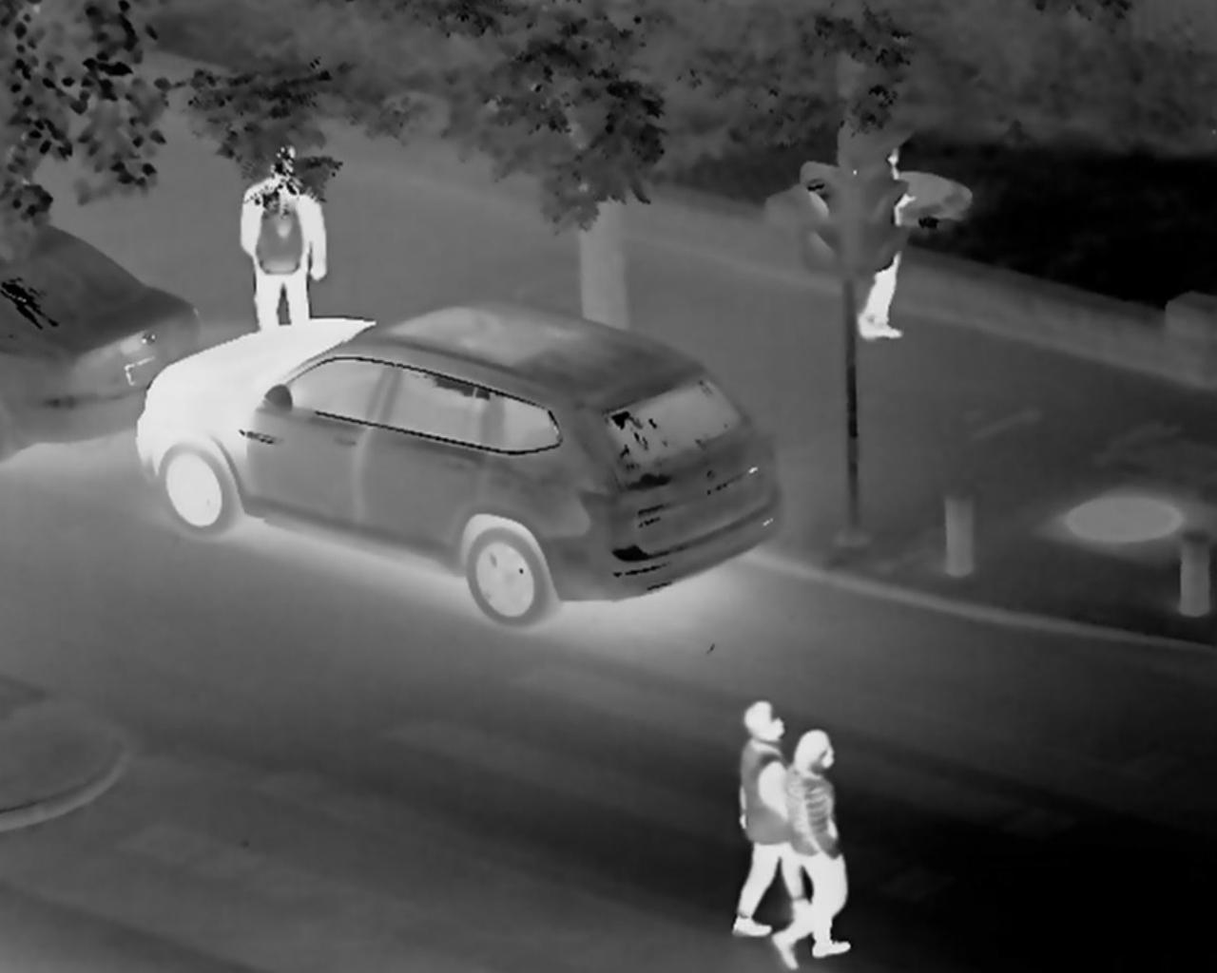person: (237, 138, 327, 330), (783, 729, 850, 957), (733, 698, 793, 939), (863, 140, 902, 346)
